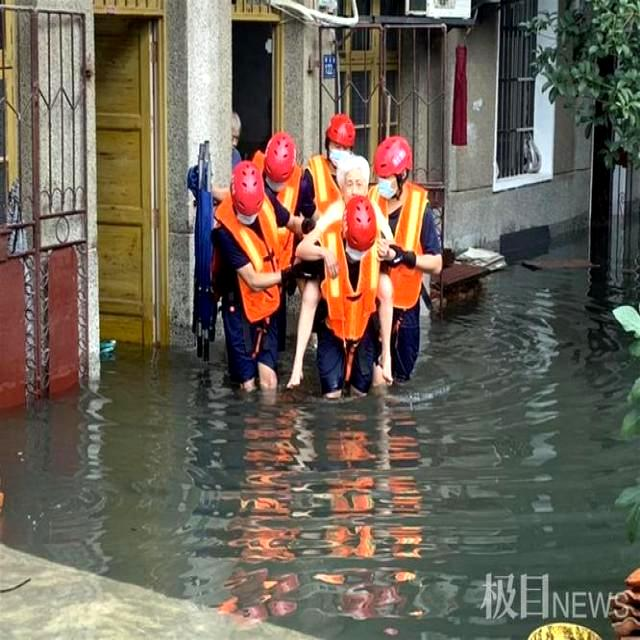civilian: (288, 154, 402, 400)
rescuer: (302, 194, 403, 422), (216, 160, 282, 402), (375, 132, 437, 388), (260, 128, 313, 323), (302, 107, 357, 240)
